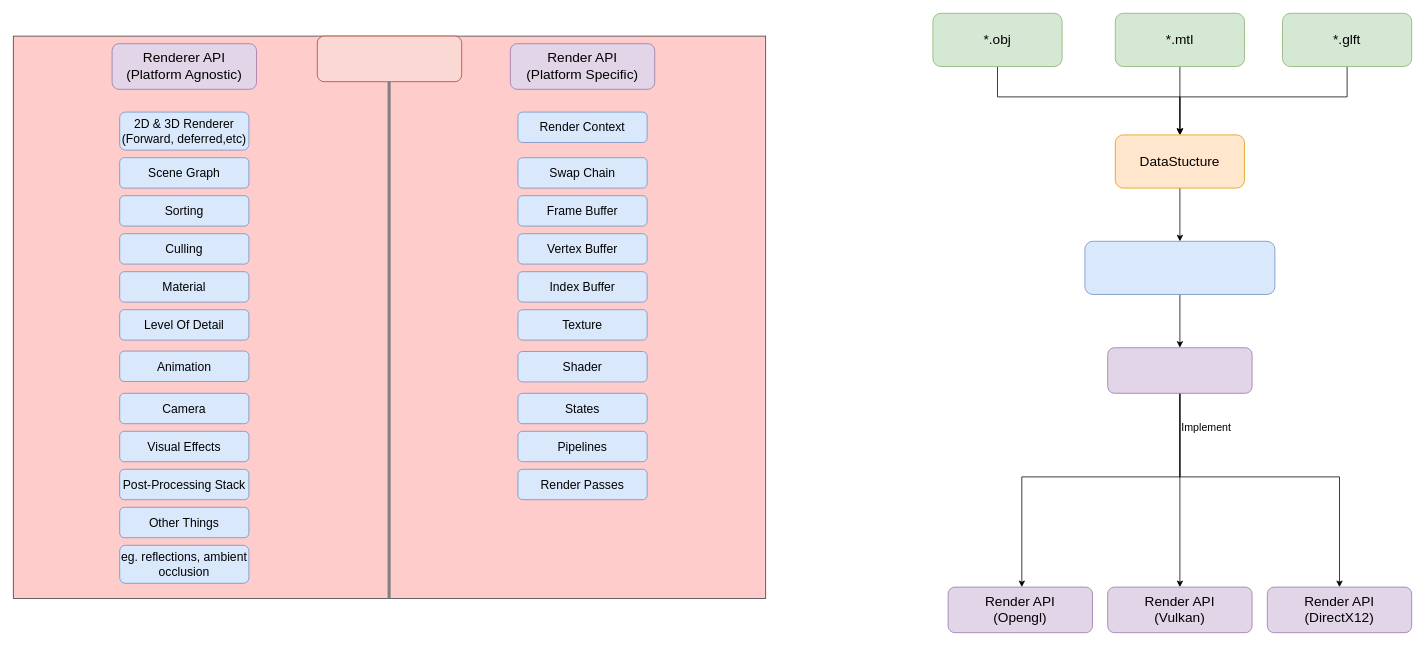
The diagram is 1425 pixels wide and 646 high, and some of its shapes have lost their labels. Here are the shapes that lost their labels. From the top down, the centre of each, then its label:
At (389,58): "Render Layer".
At (1179,267): "Algorithms + Application".
At (1179,370): "Renderer API".
